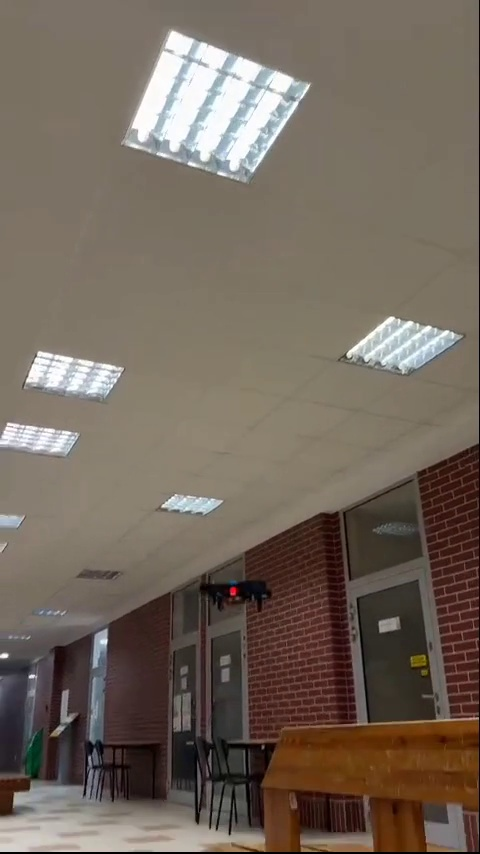drone: (194, 572, 277, 608)
